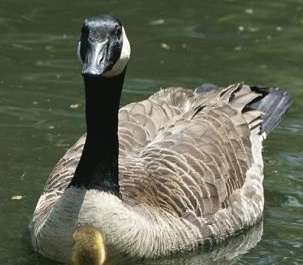goose: (26, 10, 296, 264)
